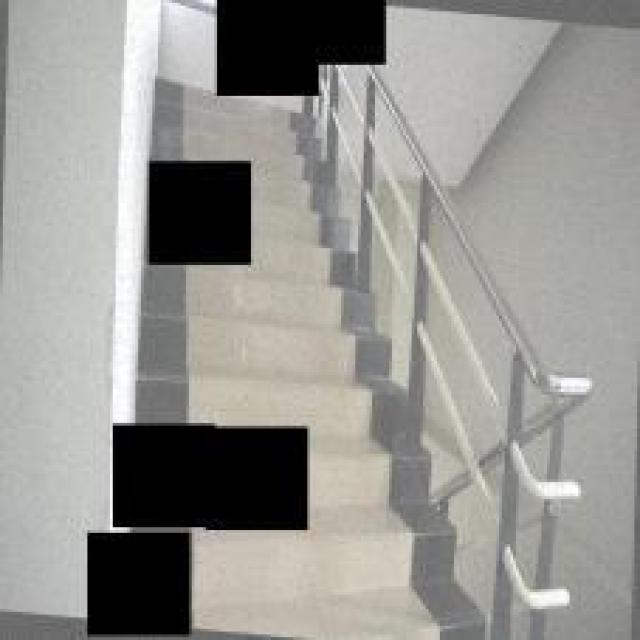upstair: (139, 283, 418, 418)
